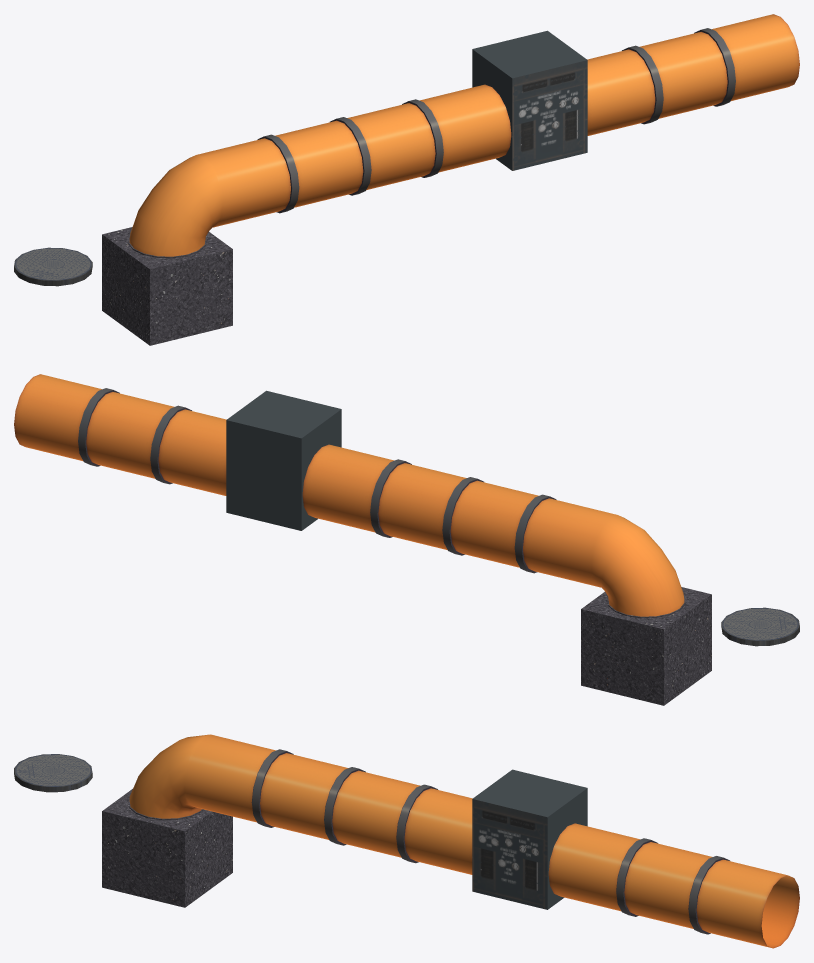
Rendered from eq_Manhole 1.fbx.
3 renders of one model, top to bottom at view 1: azimuth 30°, elevation 25°; view 2: azimuth 150°, elevation 25°; view 3: azimuth 330°, elevation 25°, orthographic.
Parts seen in each view (by area): view 1: pCube5, pCube2, pCylinder1; view 2: pCube5, pCube2, pCylinder1; view 3: pCube5, pCube2, pCylinder1.
Boxes of the visible parts, box(x1,y1,x2,y2) form: pCube5: box(129, 14, 799, 256); pCube2: box(102, 227, 232, 345); pCylinder1: box(14, 247, 92, 286); pCube5: box(14, 374, 684, 616); pCube2: box(581, 587, 711, 705); pCylinder1: box(721, 607, 799, 646); pCube5: box(129, 734, 799, 948); pCube2: box(102, 789, 232, 907); pCylinder1: box(14, 754, 92, 792).
Bounding box in the file's own units: 6.51 × 1.43 × 0.7091.
1 material, 1 textured.
